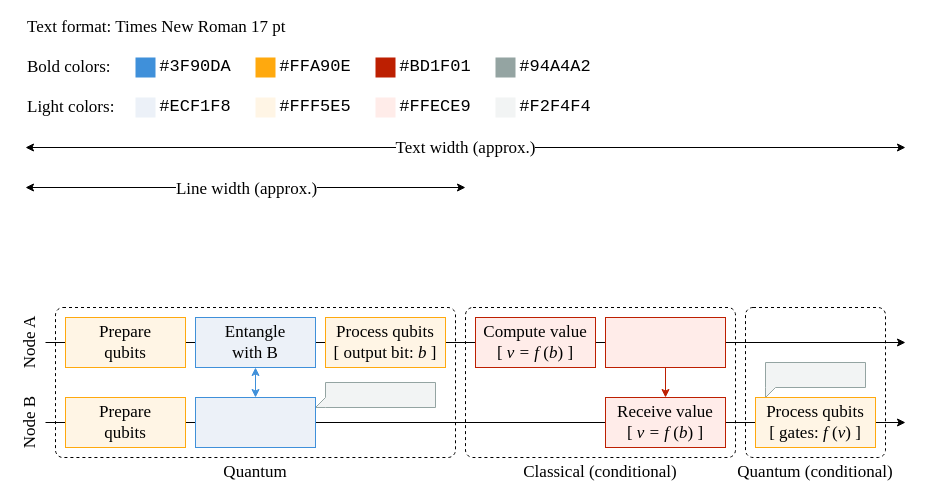
Image size: 932x499. Some labels were removed from this diagram. Each missing label, with the centre of its shape:
"Entangle with A" belongs at [255,422].
"Persist qubits" belongs at [375,395].
"Send value [ v = f ( b ) ]" belongs at [665,342].
"Use qubits" belongs at [815,380].
